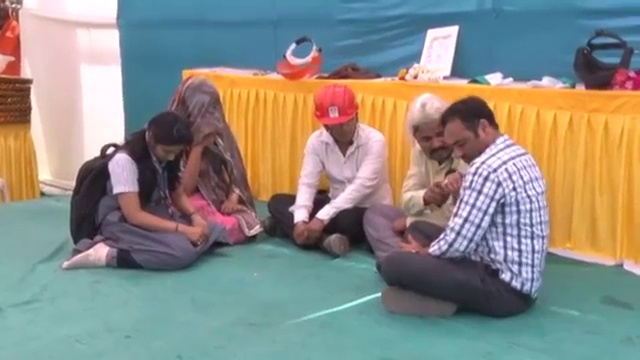helmet: (313, 87, 358, 126)
helmet_off: (422, 98, 502, 166), (404, 96, 457, 169), (174, 75, 228, 143), (139, 114, 194, 170)
helmet_on: (311, 88, 359, 149)
person: (371, 98, 552, 315), (60, 114, 224, 275), (258, 86, 404, 260), (157, 76, 257, 250), (363, 95, 465, 260), (0, 0, 20, 80)
